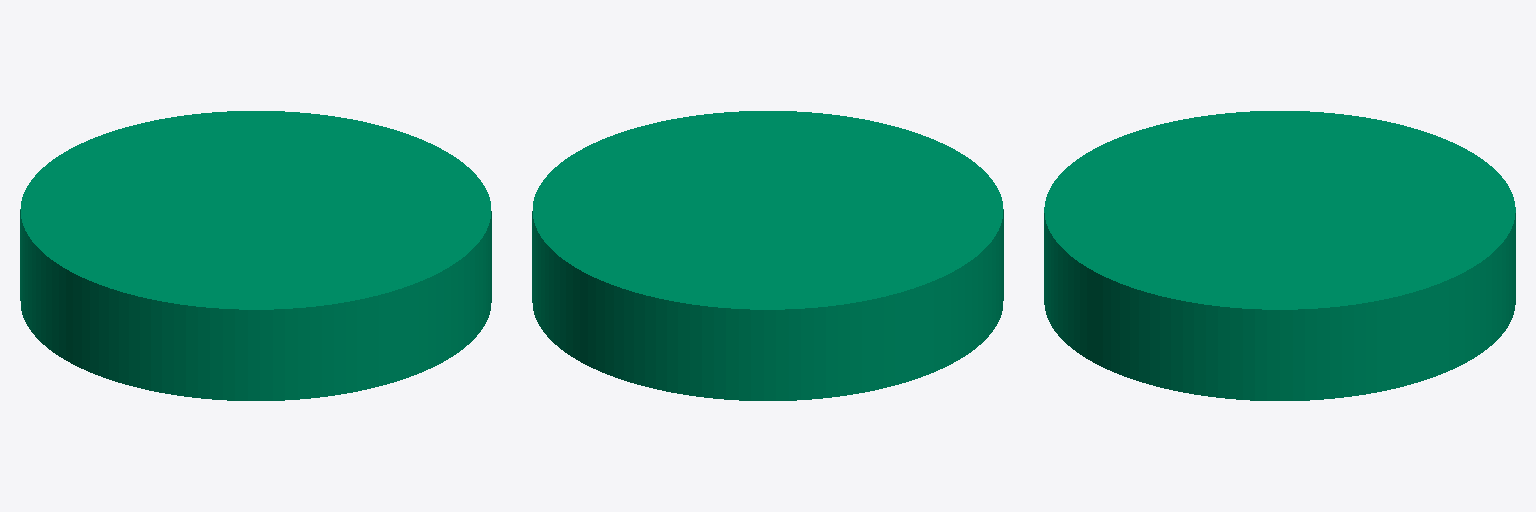
URDF robot description (tube):
<?xml version="1.0" ?>

<robot name="tube">

    <!-- <link name="world1">
    </link>
    <link name="world2">
    </link>

    <joint name="world1_to_down" type="prismatic">
        <parent link="world1"/>
        <child link="down"/>
        <origin rpy="0.0 0.0 0.0" xyz="0.0 0.0 0.0"/>
        <axis xyz="0 1 0"/>
        <dynamics damping="0.0" friction="0.0"/>
        <limit lower="0.0" upper="0.1" velocity="1e9" effort="1e9"/>
    </joint>

    <joint name="up_to_world2" type="prismatic">
        <parent link="up"/>
        <child link="world2"/>
        <origin rpy="0.0 0.0 0.0" xyz="0.0 0.0 0.0"/>
        <axis xyz="0 1 0"/>
        <dynamics damping="0.0" friction="0.0"/>
        <limit lower="0.0" upper="0.1" velocity="1e9" effort="1e9"/>
    </joint> -->

    <link name="up">    
	    <visual>
            <origin rpy="0.0 0.0 0.0" xyz="0.0 0.0 0.0"/>
            <geometry>
                <mesh filename="../../meshes/tubes/64x80/up.obj" scale="0.001 0.001 0.001"/>
            </geometry>
        </visual>
        <collision>
            <origin rpy="0.0 0.0 0.0" xyz="0.0 0.0 0.0"/>
            <geometry>
                <mesh filename="../../meshes/tubes/64x80/up.obj" scale="0.001 0.001 0.001"/>
                <scale value="0.001"/>
            </geometry>
        </collision>
	</link>

    <joint name = "up_to_tube" type = "fixed">
		<origin xyz = "0.0 0.0 0.0" rpy = "0 0 0"/>
		<parent link = "up"/>
		<child link = "tube"/>
	</joint>

    <link name="tube">
		<fem>
			<origin rpy="0 0 0" xyz="0 0 0"/>
			<density value=""/>
			<youngs value=""/>
			<poissons value=""/>
			<damping value="0.0"/>
			<attachDistance value="1e-5"/>
			<tetmesh filename="../../meshes/tubes/64x80/sparse/tube.tet"/>
			<scale value="0.001"/>
		</fem>
	</link>

    <joint name = "tube_to_down" type = "fixed">
		<origin xyz = "0.0 0.0 1.0" rpy = "0 0 0"/>
		<parent link = "tube"/>
		<child link = "down"/>
	</joint>

    <link name="down">    
	    <visual>
            <origin rpy="0.0 0.0 0.0" xyz="0.0 0.0 0.0"/>
            <geometry>
                <mesh filename="../../meshes/tubes/64x80/down.obj" scale="0.001 0.001 0.001"/>
            </geometry>
        </visual>
        <collision>
            <origin rpy="0.0 0.0 0.0" xyz="0.0 0.0 0.0"/>
            <geometry>
                <mesh filename="../../meshes/tubes/64x80/down.obj" scale="0.001 0.001 0.001"/>
            </geometry>
        </collision>
	</link>

</robot>

--- What the picture shows (computed from the rendered views, not written in the file) ---
Views: 3 orthographic renders of the robot side by side, from view 1: azimuth 30°, elevation 25°; view 2: azimuth 150°, elevation 25°; view 3: azimuth 270°, elevation 25°.
Robot: tube — 3 links, 2 joints (2 fixed); root link up; default pose: every joint at zero.
Links seen in each view (by area): view 1: down; view 2: down; view 3: down.
Boxes of the visible links, left/top/right/bottom form: down: left=20, top=111, right=491, bottom=400; down: left=532, top=111, right=1003, bottom=400; down: left=1044, top=111, right=1515, bottom=400.
Bounding box of the posed robot: 0.14 × 0.14 × 0.03 m (x, y, z).
1 mesh visuals loaded from 2 distinct referenced files (1 OBJ); not drawn: 1 (reference not matched to a file when rendering).